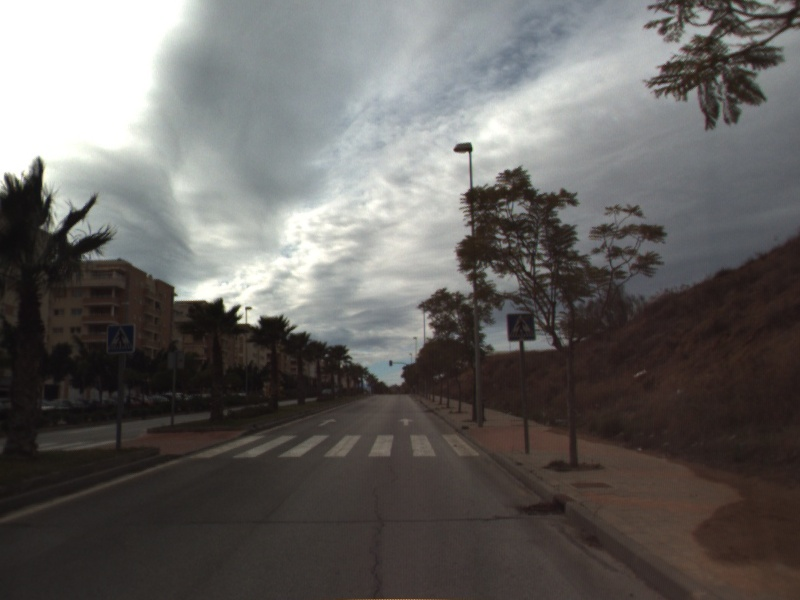STRAIGHT: (315, 416, 338, 428), (397, 416, 416, 427)
